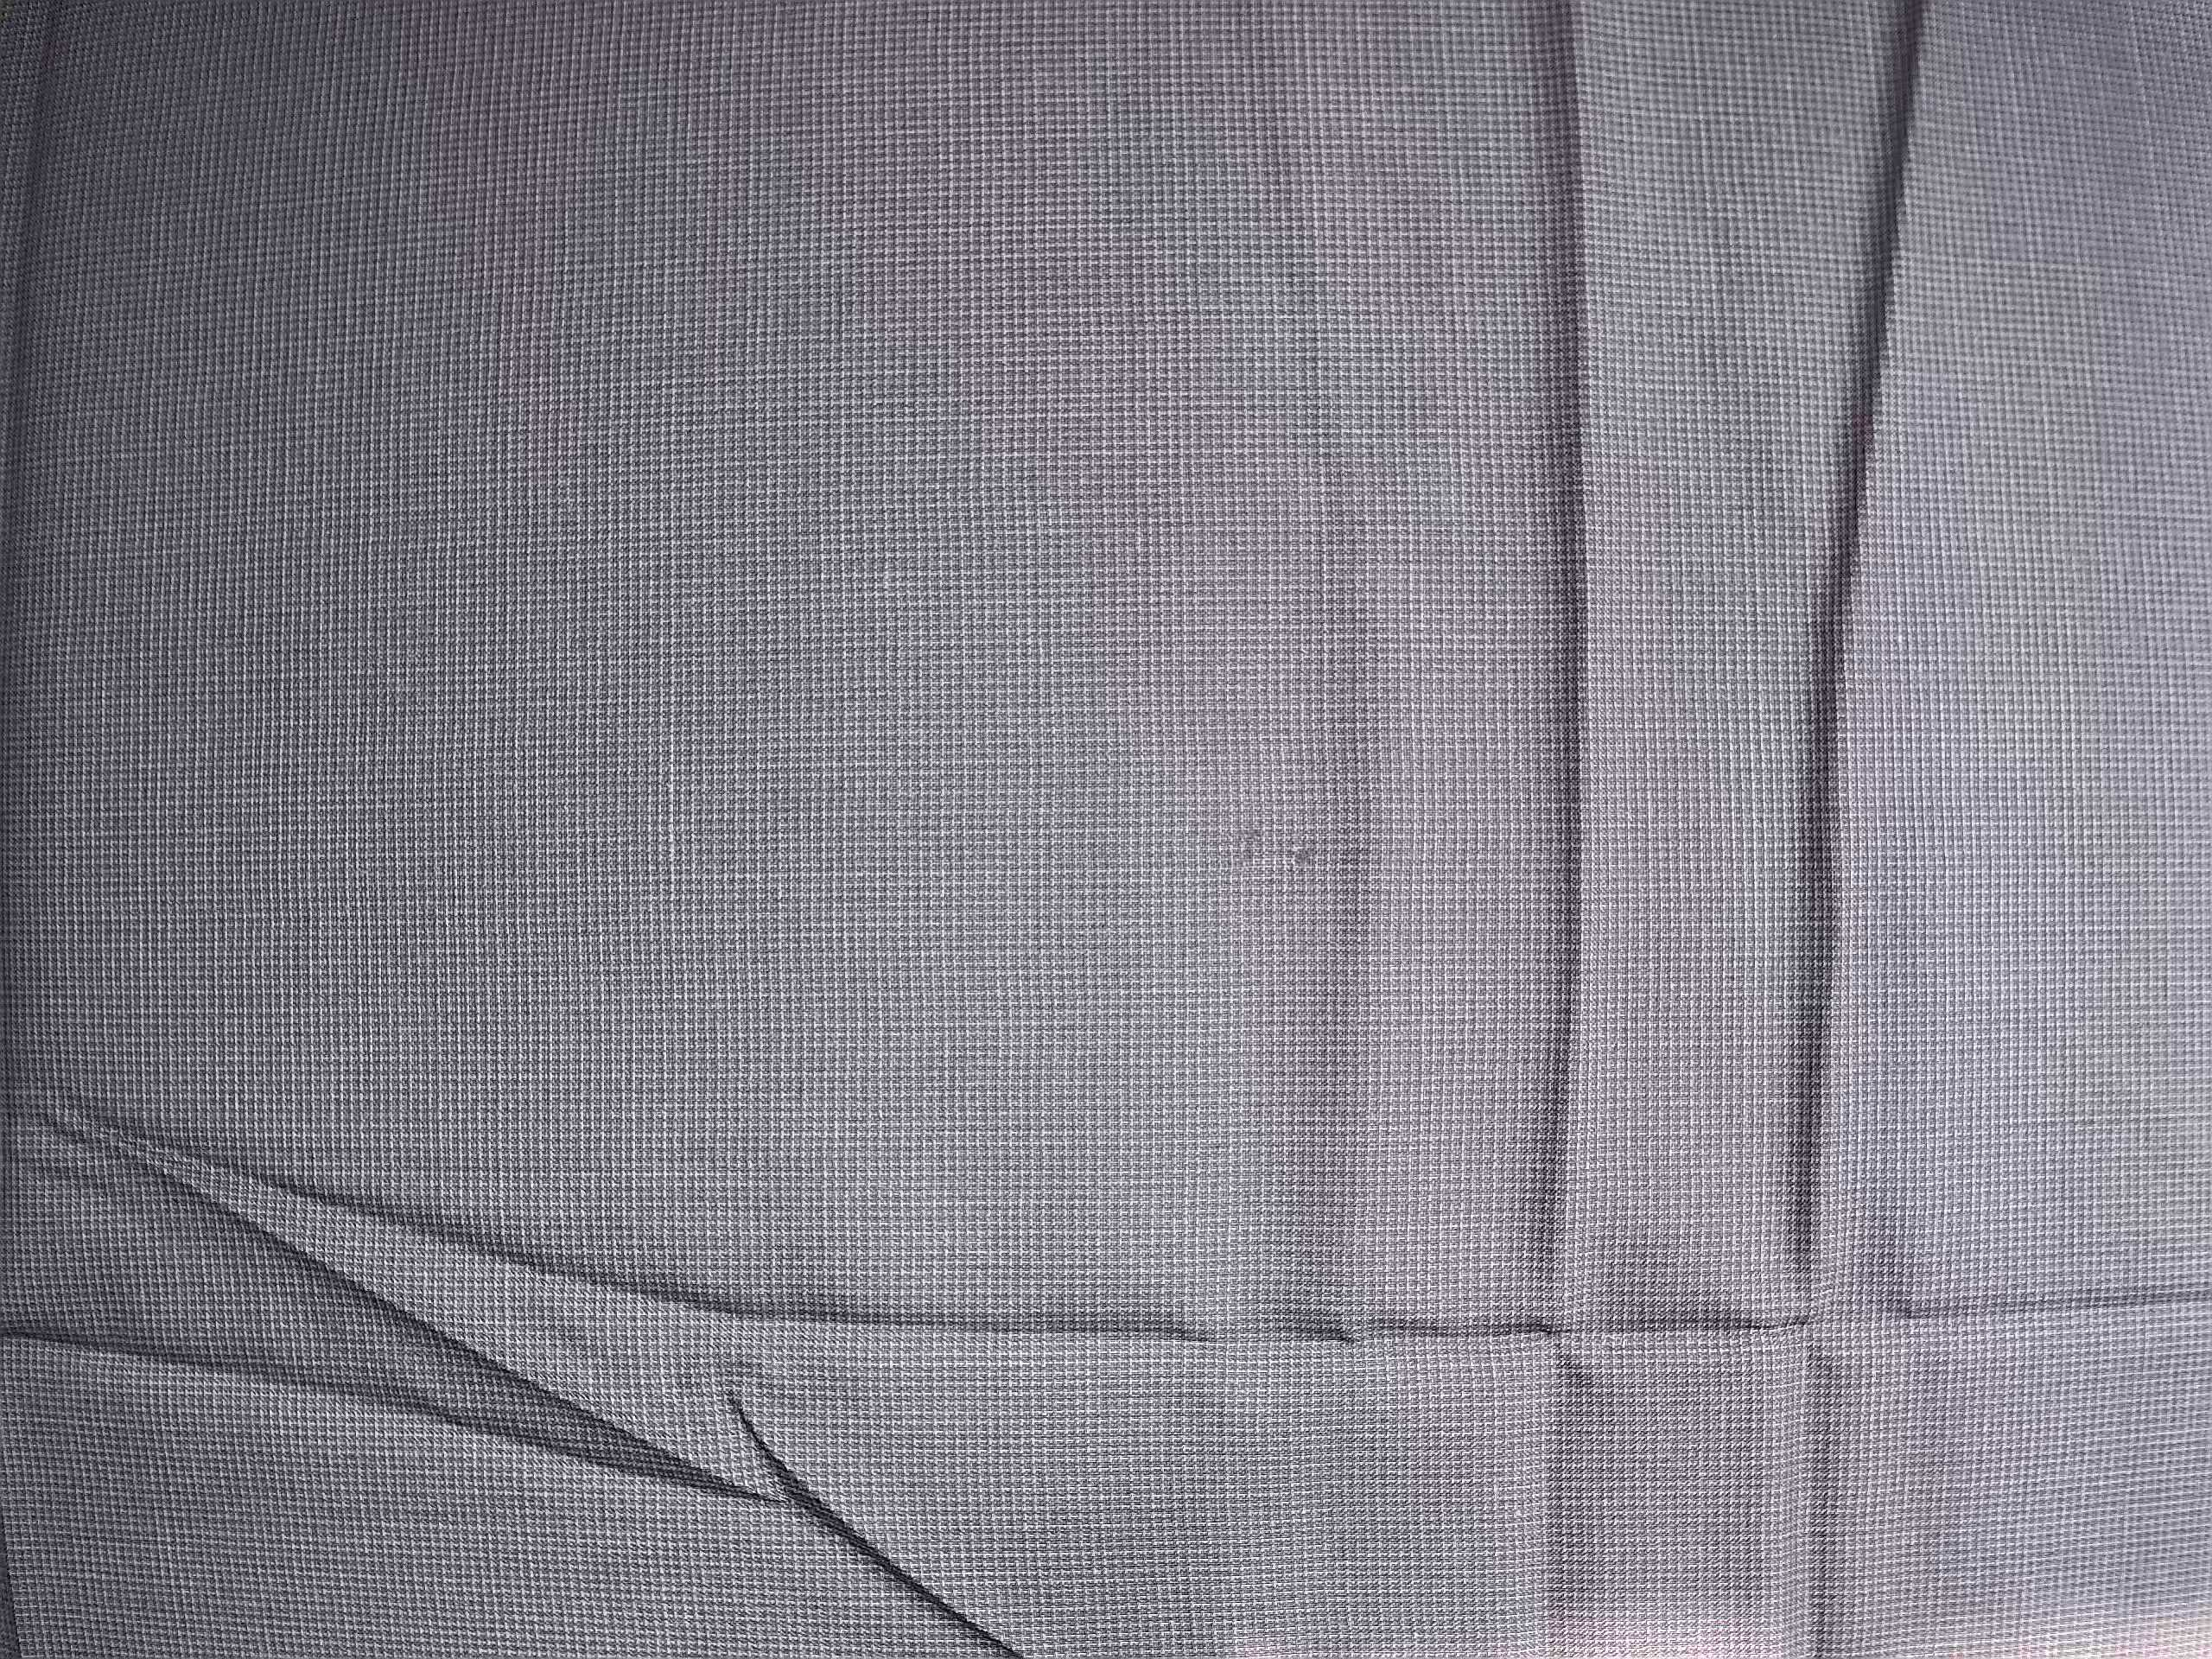rubbing-hole: (1223, 814, 1392, 892)
